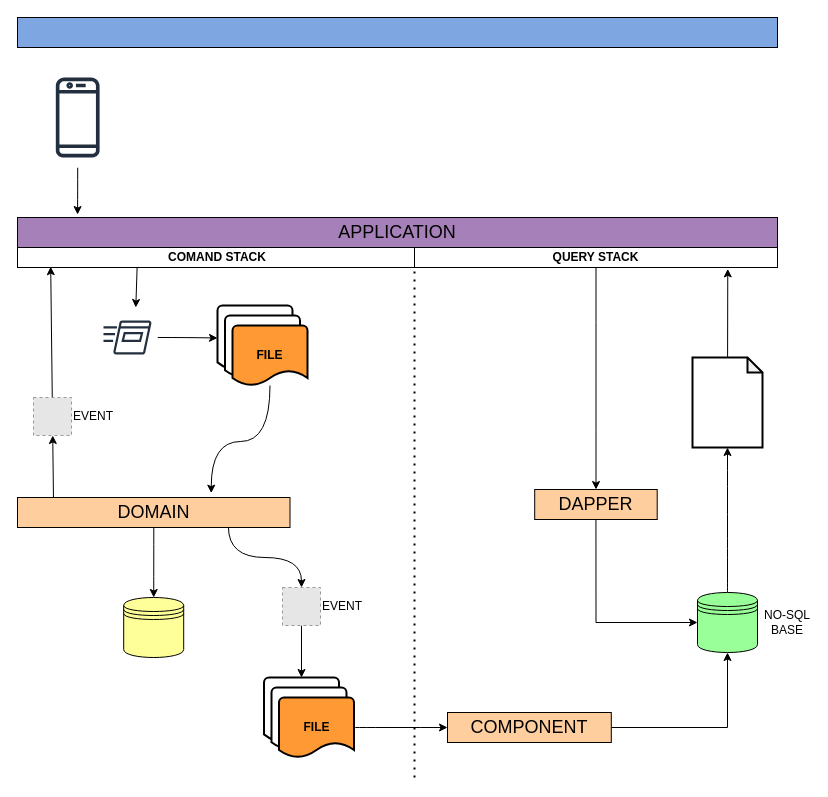
Some shapes in this 828 by 797 pixel diagram are drawn without their labels. Grey dashed boxes stand in for pictures. The centre of each missing label's shape, as x and y in pixels:
Command: pixel 127 337
Mobile client: pixel 77 117
SQL BASE: pixel 153 627
UI: pixel 397 32
VIEW MODEL: pixel 727 402
